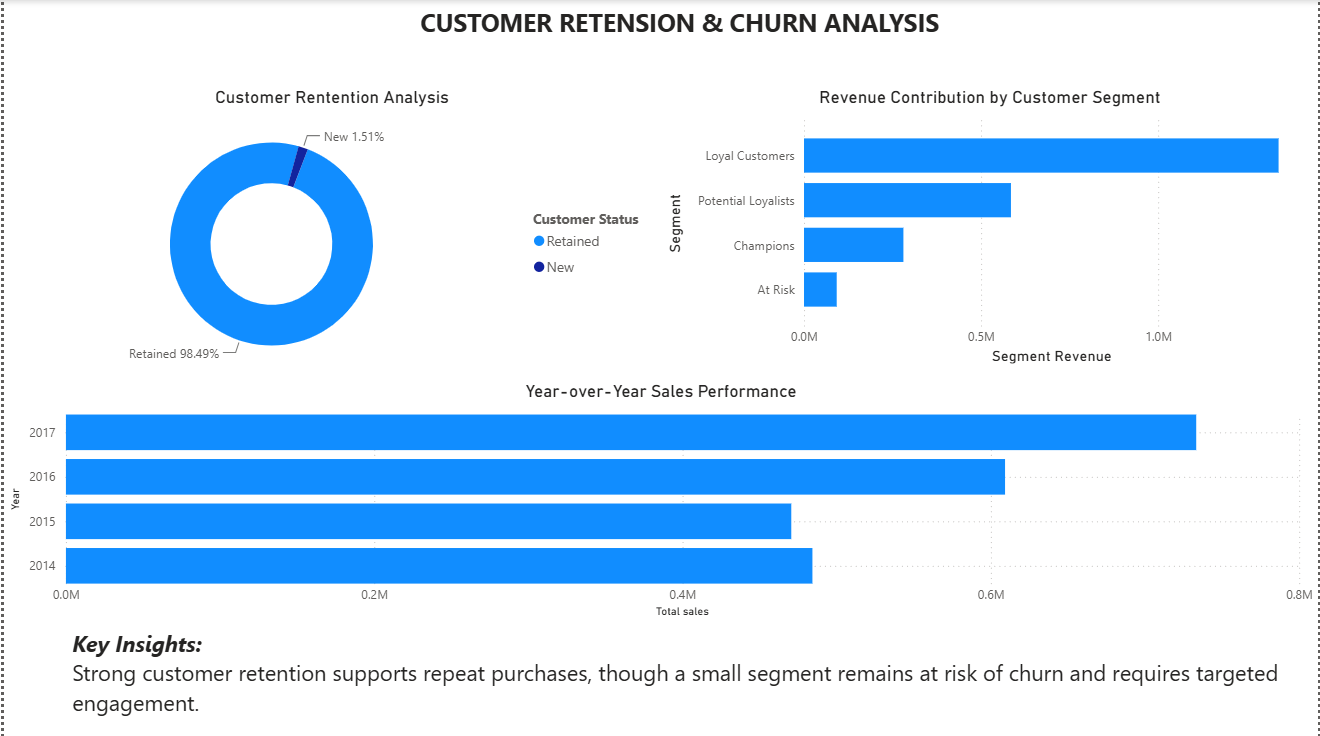

This screenshot's page, from the dashboard's own definition file:
{"tool":"powerbi","page":{"name":"Page 4","canvas":[1280,720],"ordinal":3},"visuals":[{"type":"donutChart","title":"Customer Rentention Analysis","fields":{"Category":["Customer Summary.Customer Status"],"Y":["CountNonNull(Customer Summary.Customer ID)"]},"box":[0,85.5,639.5,286],"z":0},{"type":"clusteredBarChart","title":"Revenue Contribution by Customer Segment","fields":{"Category":["Customer Summary.Segment"],"Y":["Customer Summary.Segment Revenue"]},"box":[639.5,85.5,641.1,274.5],"z":1000},{"type":"clusteredBarChart","title":"Year-over-Year Sales Performance","fields":{"Y":["DateTable.Total sales"],"Category":["Sample - Superstore.Order Date.Variation.Date Hierarchy.Year","Sample - Superstore.Order Date.Variation.Date Hierarchy.Quarter","Sample - Superstore.Order Date.Variation.Date Hierarchy.Month","Sample - Superstore.Order Date.Variation.Date Hierarchy.Day"]},"box":[0,371.5,1280.6,235.1],"z":2000},{"type":"textbox","box":[401.1,0,529.3,47.7],"z":3000},{"type":"textbox","box":[60.8,606.6,1198.4,101.9],"z":4000}]}

Visuals, with their boxes in screenshot pixels (x1, y1, x2, y2), scaled from the page's 1280x720 canvas onto the 1320x736 screenshot:
"Customer Rentention Analysis" donutChart: 0/87/659/380
"Revenue Contribution by Customer Segment" clusteredBarChart: 659/87/1319/368
"Year-over-Year Sales Performance" clusteredBarChart: 0/380/1319/620
textbox: 414/0/959/49
textbox: 63/620/1299/724
